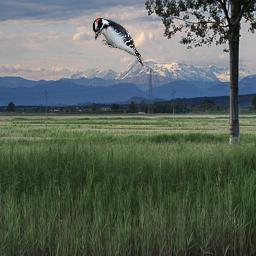Woodpecker: (92, 17, 145, 67)
